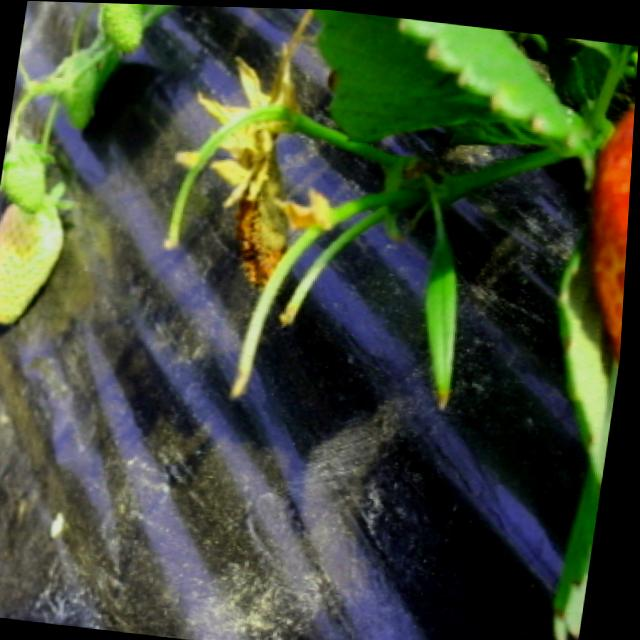Gray Mold: (195, 46, 298, 292), (0, 187, 69, 328)
